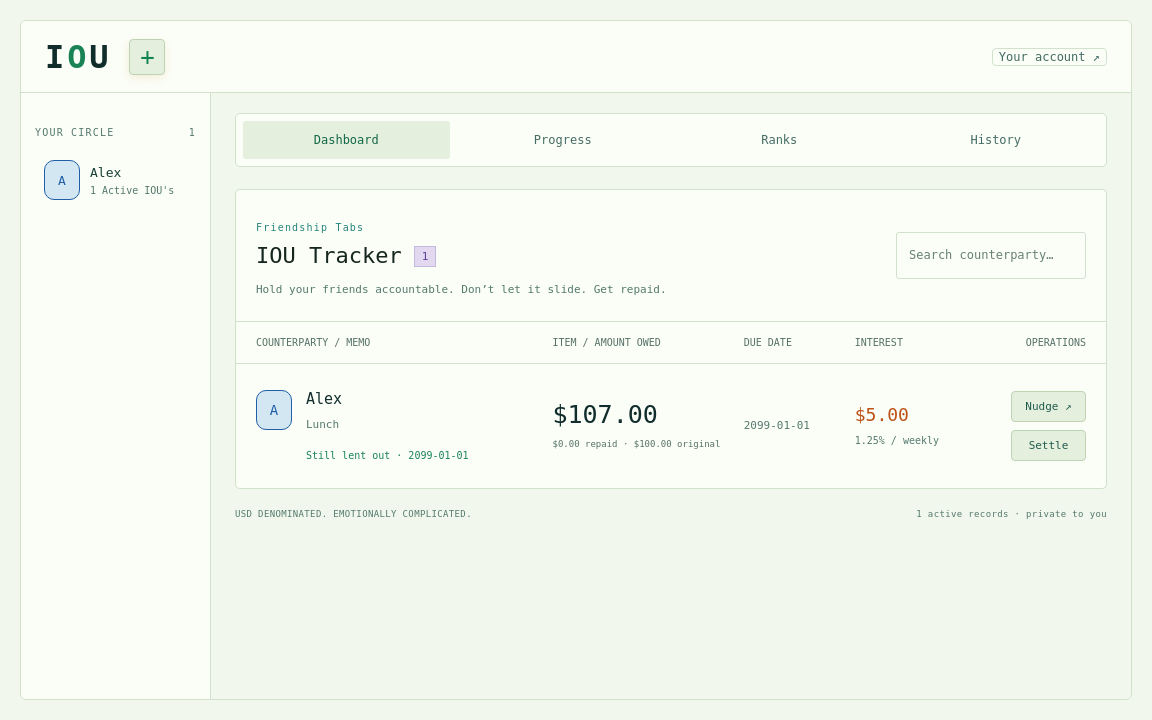
Scenario: pays the server total including charges, not principal-only outstanding
Expected: the text "$107.00" is shown, [552,400,658,429]
Expected: the text "1.25% / weekly" is shown, [855,435,939,446]
Click the button "Settle": [1048, 445] box [1011,430,1086,461]
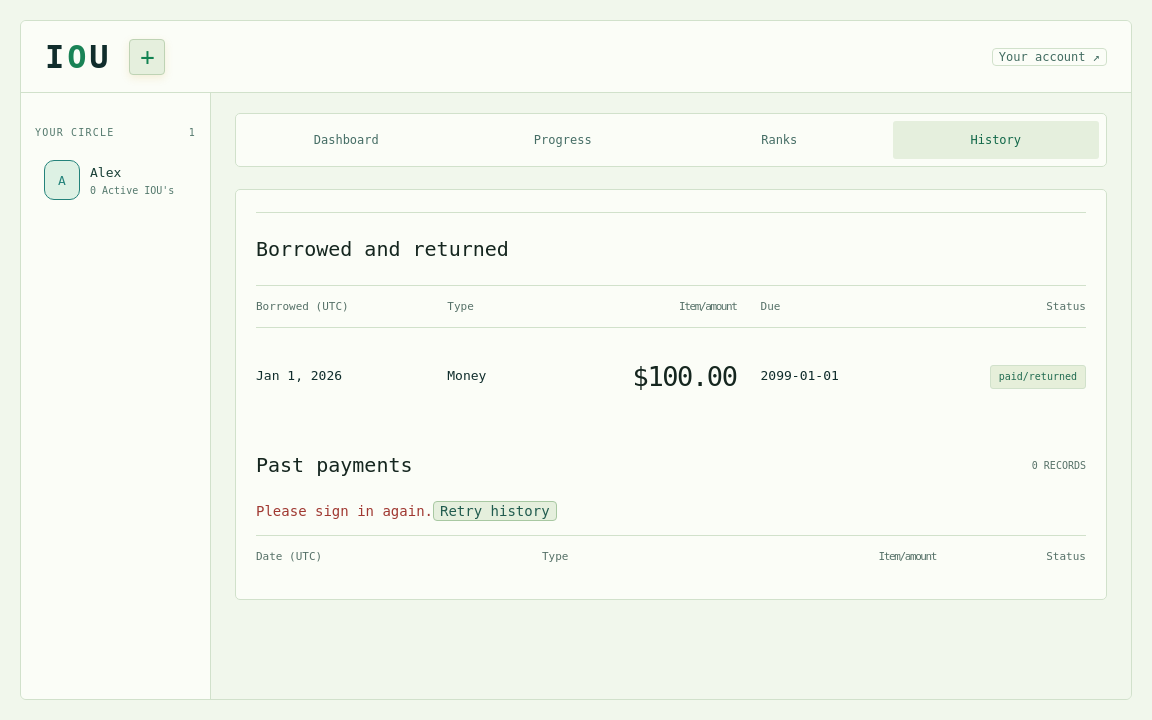
Expected: the heading "Past payments" is shown, [256,453,412,477]
